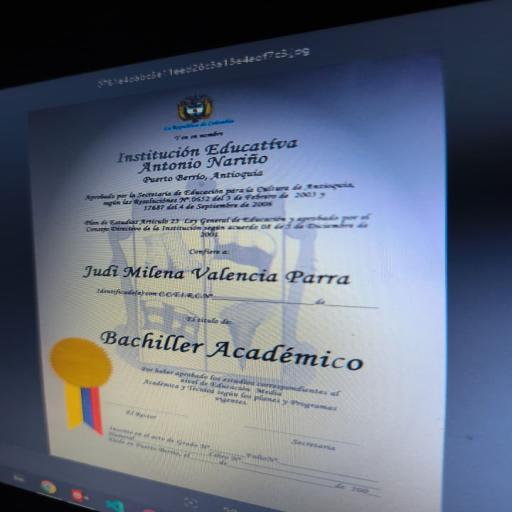bachillerato: (90, 324, 386, 385)
diploma: (24, 37, 443, 512)
institucion: (90, 131, 301, 179)
nombre: (57, 261, 367, 300)
